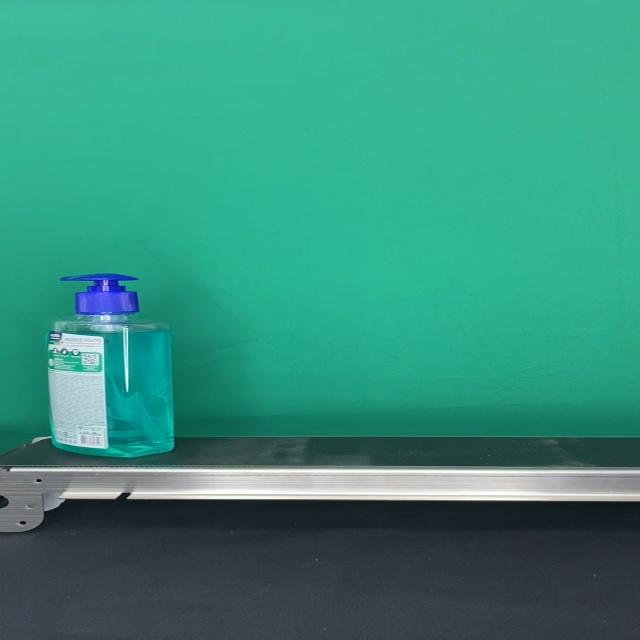Bottle: (44, 274, 174, 457)
Cap: (60, 273, 142, 315)
